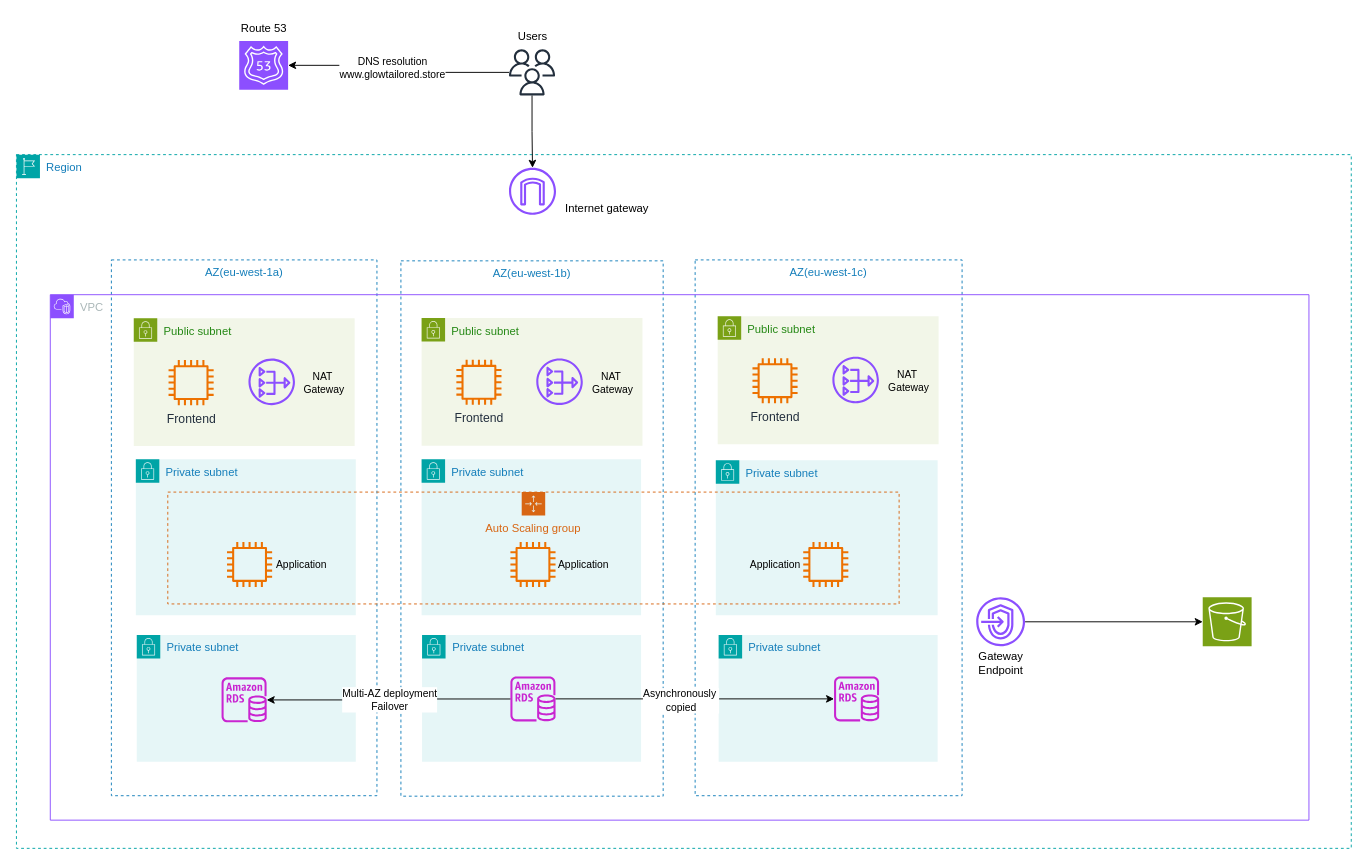
The diagram is 1368 pixels wide and 865 high, and some of its shapes have lost their labels. Each missing label, with the centre of its shape:
Amazon RDS (DB instance): (532,698)
Amazon RDS (read replica): (856,698)
Amazon RDS (Standby instance): (243,699)
Static content: (1227,621)
